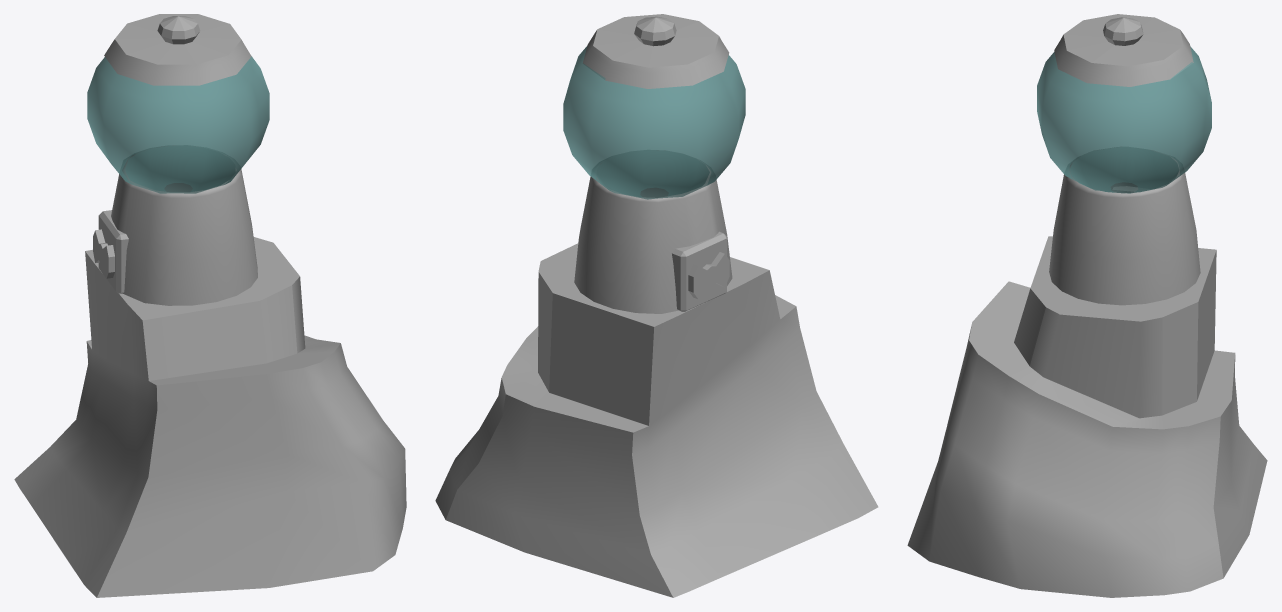
Rendered from Violetta_Canion.fbx.
The picture shows the model from 3 angles, left to right: view 1: azimuth 30°, elevation 25°; view 2: azimuth 150°, elevation 25°; view 3: azimuth 270°, elevation 25°; orthographic projection. The views are drawn at different scales.
Visible parts, largest first — view 1: Violetta_Baleiro_1, Violetta_BaleiroPorta_1, Violetta_BaleiroTranca_1; view 2: Violetta_Baleiro_1, Violetta_BaleiroPorta_1, Violetta_BaleiroTranca_1; view 3: Violetta_Baleiro_1.
Boxes of the visible parts, x1,y1,x2,y2 form: Violetta_Baleiro_1: [14, 14, 406, 597]; Violetta_BaleiroPorta_1: [98, 210, 128, 293]; Violetta_BaleiroTranca_1: [93, 229, 114, 278]; Violetta_Baleiro_1: [435, 14, 878, 597]; Violetta_BaleiroPorta_1: [672, 231, 726, 311]; Violetta_BaleiroTranca_1: [688, 252, 729, 299]; Violetta_Baleiro_1: [907, 14, 1267, 597].
Size of the model in its own units: 31.76 by 43.46 by 29.12.
